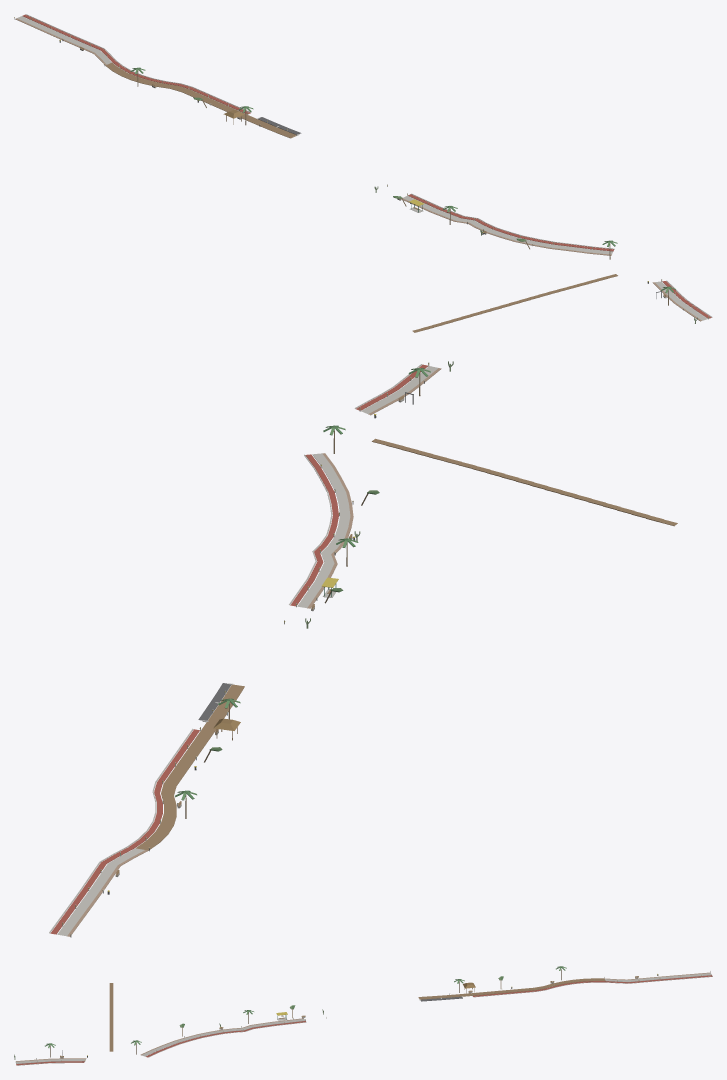
File: nw_mk_mid.glb
3 views of the same model, one above another, from view 1: azimuth 30°, elevation 25°; view 2: azimuth 150°, elevation 25°; view 3: azimuth 270°, elevation 25° (orthographic). The views are drawn at different scales.
Visible parts, largest first — view 1: nw_mk_mid_lod0; view 2: nw_mk_mid_lod0; view 3: nw_mk_mid_lod0.
Boxes of the visible parts, x1,y1,x2,y2 form: nw_mk_mid_lod0: (14,14,712,332); nw_mk_mid_lod0: (49,361,677,937); nw_mk_mid_lod0: (14,966,712,1065).
Size of what is drawn, in the model's own units: 77.71 by 11.94 by 269.
